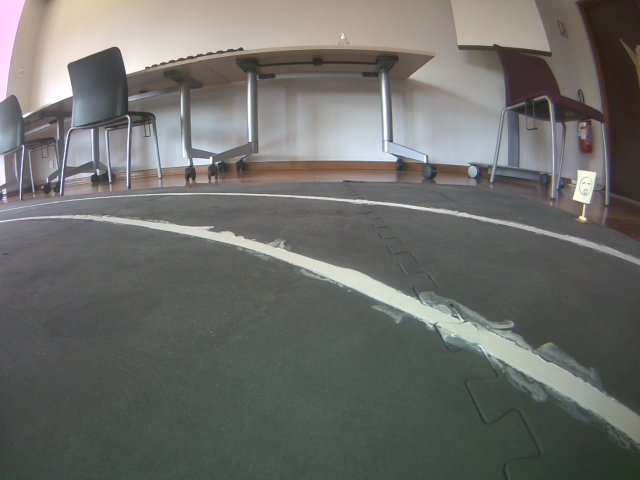Smiley: (570, 170, 599, 206)
